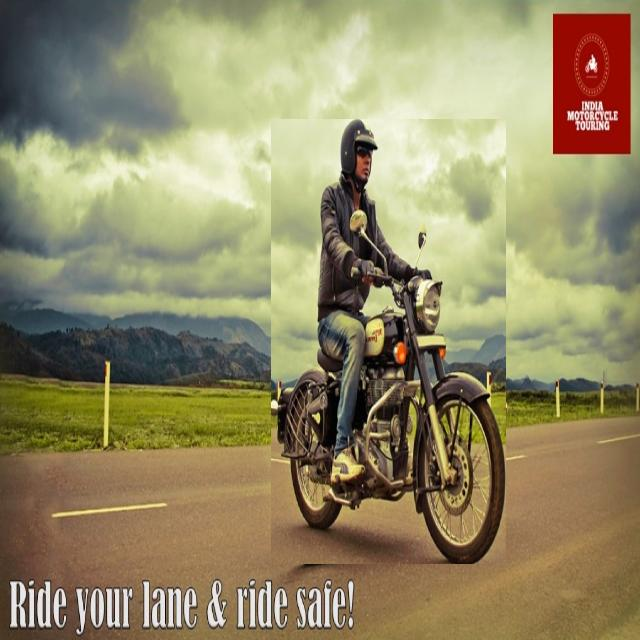motorcycle: (271, 120, 506, 564)
